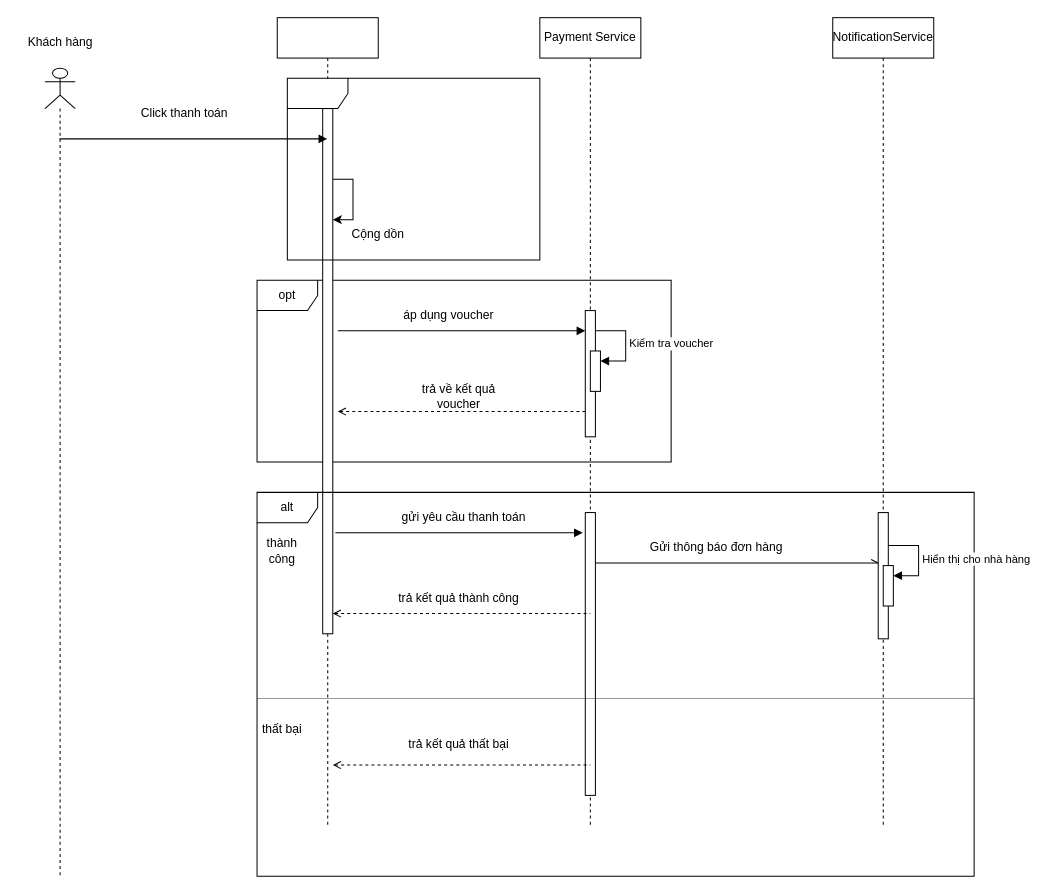
Image size: 1048x894. Some labels were removed from this diagram. Each missing label, with the box of its shape:
loop: (286, 77, 540, 260)
Mobile app: (276, 17, 378, 826)
